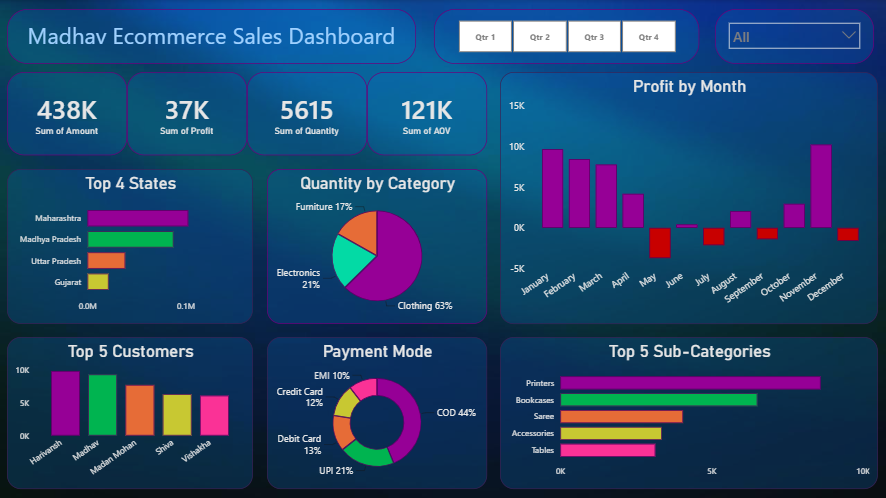

The dashboard page shown, as its layout file describes it:
{"tool":"powerbi","page":{"name":"Page 1","canvas":[1280,720],"ordinal":0},"visuals":[{"type":"textbox","box":[10.1,13.4,589,79.2],"z":0},{"type":"columnChart","title":"Profit by Month","fields":{"Category":["Orders.Order Date.Variation.Date Hierarchy.Month"],"Y":["Sum(Details.Profit)"]},"box":[720,103.7,544.3,362.9],"z":1000},{"type":"barChart","title":"Top 5 Sub-Categories","fields":{"Category":["Details.Sub-Category"],"Y":["Sum(Details.Profit)"]},"box":[720,485.3,544.3,218.9],"z":2000},{"type":"pieChart","title":"Quantity by Category","fields":{"Category":["Details.Category"],"Y":["Sum(Details.Quantity)"]},"box":[384.5,243.8,316.8,223.2],"z":3000},{"type":"donutChart","title":"Payment Mode","fields":{"Y":["Sum(Details.Quantity)"],"Category":["Details.PaymentMode"]},"box":[384.5,485.8,316.8,218.9],"z":4000},{"type":"cardVisual","fields":{"Data":["Sum(Details.Amount)"]},"box":[10.1,104.1,172.8,119.5],"z":5000},{"type":"cardVisual","fields":{"Data":["Sum(Details.Profit)"]},"box":[182.9,104.1,172.8,119.5],"z":6000},{"type":"cardVisual","fields":{"Data":["Sum(Details.Quantity)"]},"box":[355.7,104.1,172.8,119.5],"z":7000},{"type":"cardVisual","fields":{"Data":["Sum(Details.AOV)"]},"box":[528.5,104.1,172.8,119.5],"z":8000},{"type":"barChart","title":"Top 4 States","fields":{"Category":["Orders.State"],"Y":["Sum(Details.Amount)"]},"box":[10.1,243.4,354.2,223.2],"z":9000},{"type":"columnChart","title":"Top 5 Customers","fields":{"Category":["Orders.CustomerName"],"Y":["Sum(Details.Amount)"]},"box":[10.1,485.8,354.2,218.9],"z":10000},{"type":"slicer","fields":{"Values":["Orders.Order Date.Variation.Date Hierarchy.Quarter"]},"box":[625,13.4,381.6,79.2],"z":11000},{"type":"slicer","fields":{"Values":["Orders.State"]},"box":[1029.6,13.4,229,79.2],"z":12000}]}

Visuals, with their boxes in screenshot pixels (x1, y1, x2, y2), scaled from the page's 1280x720 canvas onto the 886x498 screenshot:
textbox: 7,9,415,64
"Profit by Month" columnChart: 498,72,875,323
"Top 5 Sub-Categories" barChart: 498,336,875,487
"Quantity by Category" pieChart: 266,169,485,323
"Payment Mode" donutChart: 266,336,485,487
cardVisual - Sum(Details.Amount): 7,72,127,155
cardVisual - Sum(Details.Profit): 127,72,246,155
cardVisual - Sum(Details.Quantity): 246,72,366,155
cardVisual - Sum(Details.AOV): 366,72,485,155
"Top 4 States" barChart: 7,168,252,323
"Top 5 Customers" columnChart: 7,336,252,487
slicer - Orders.Order Date.Variation.Date Hierarchy.Quarter: 433,9,697,64
slicer - Orders.State: 713,9,871,64
